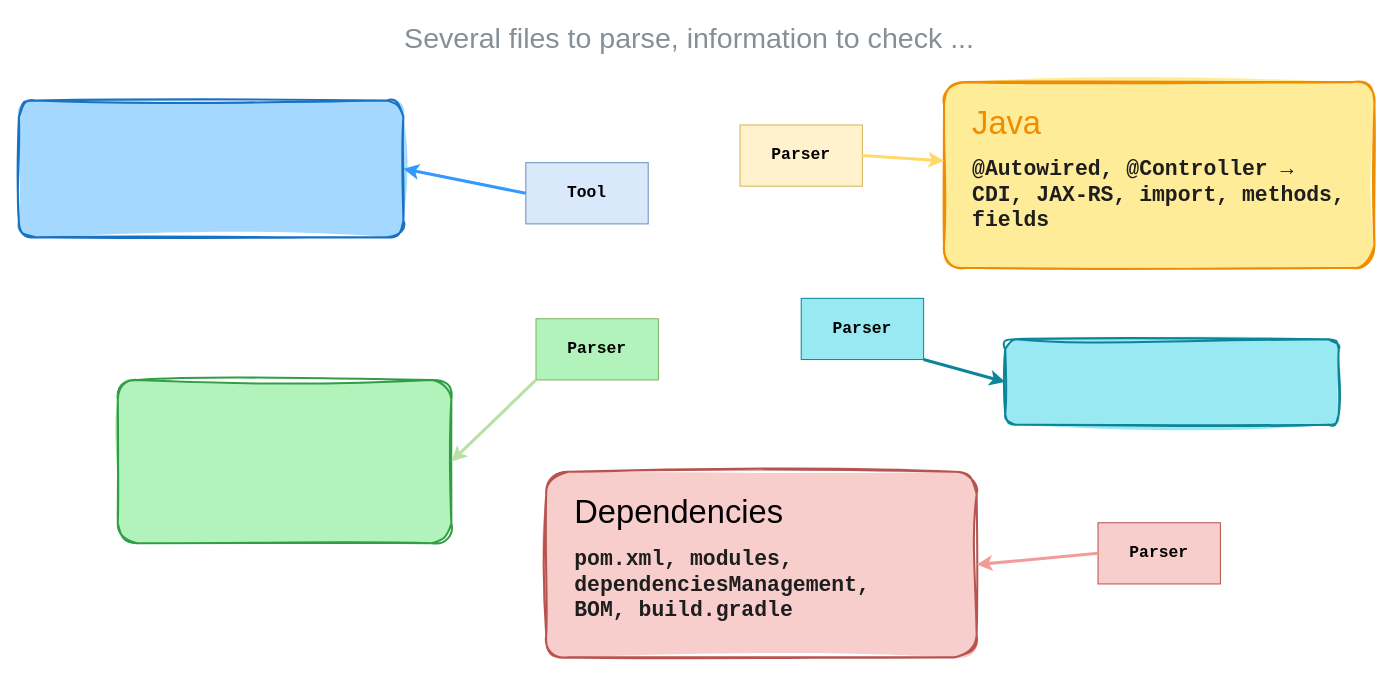
This 1392x675 diagram has some shape labels left out. Each missing label, with the box of its shape:
Config/Properties spring.a.b.c spring.x.y.z: (116, 378, 452, 544)
Environment JDK, Maven vs Gradle, OS: (17, 99, 404, 238)
Yaml/XML/JSON: (1004, 338, 1339, 425)
